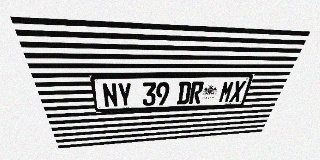3: (143, 82, 156, 106)
9: (156, 82, 170, 105)
D: (176, 81, 192, 104)
M: (218, 81, 235, 103)
N: (101, 83, 118, 108)
R: (189, 81, 204, 104)
X: (229, 81, 246, 102)
Y: (117, 82, 132, 107)
